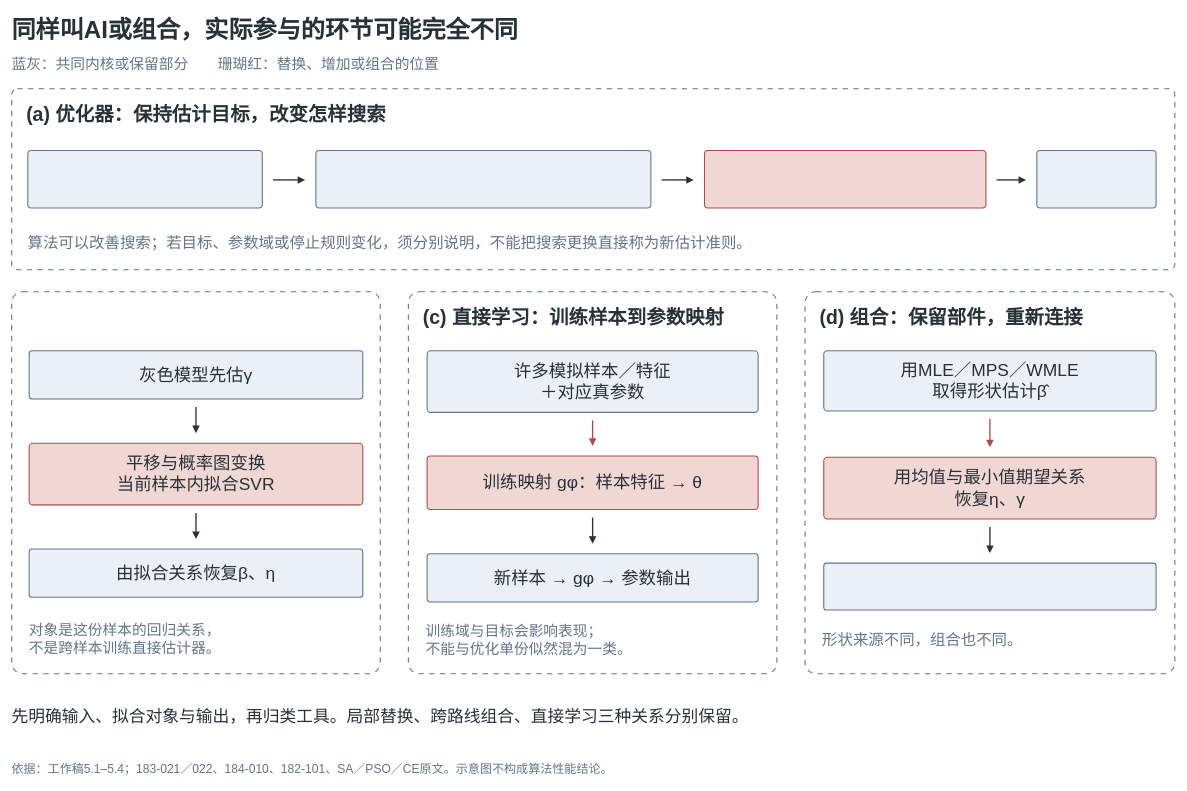
Some shapes in this 1187 by 791 pixel diagram are drawn without their labels. The shapes that lost their labels are listed below. From the top down, each one's box as (x1, y1, x2, y2) in pixels, then its label:
(27, 150, 263, 208): 当前样本 t
(315, 150, 651, 208): 既定目标：如负对数似然
(704, 150, 986, 208): SA／PSO／CE等 提出与更新候选参数
(1036, 150, 1156, 208): θ̂
(11, 291, 380, 674): (b) 当前样本拟合：SVR在回归处
(823, 562, 1156, 610): Cousineau Mixed各版本
